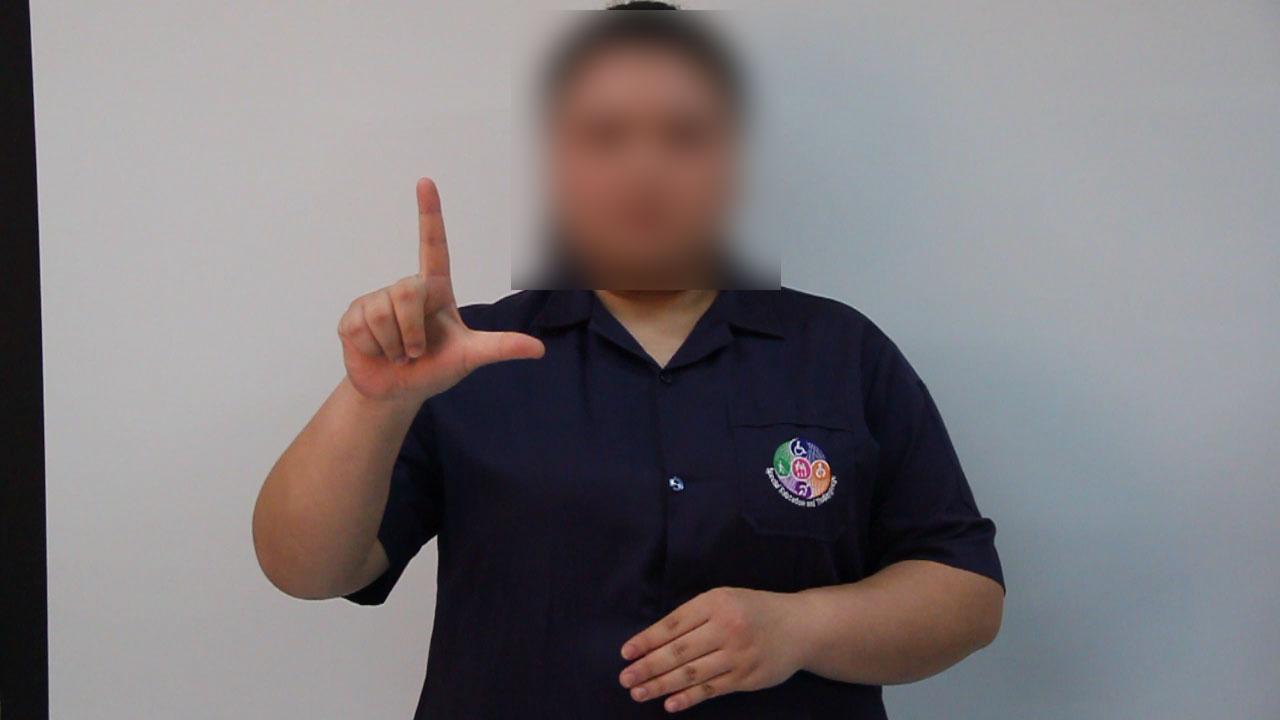lor: (324, 167, 564, 422)
